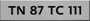character: (16, 4, 25, 15), (55, 4, 64, 15), (7, 5, 16, 15), (47, 5, 56, 15), (29, 5, 37, 15), (37, 5, 44, 14), (67, 4, 72, 15), (72, 5, 77, 15), (77, 5, 82, 15)
